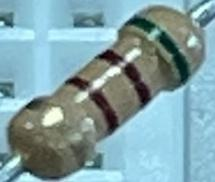Black: (95, 44, 158, 109)
Brown: (66, 73, 124, 135)
Green: (123, 11, 198, 84)
Side-Silver: (25, 96, 97, 173)
